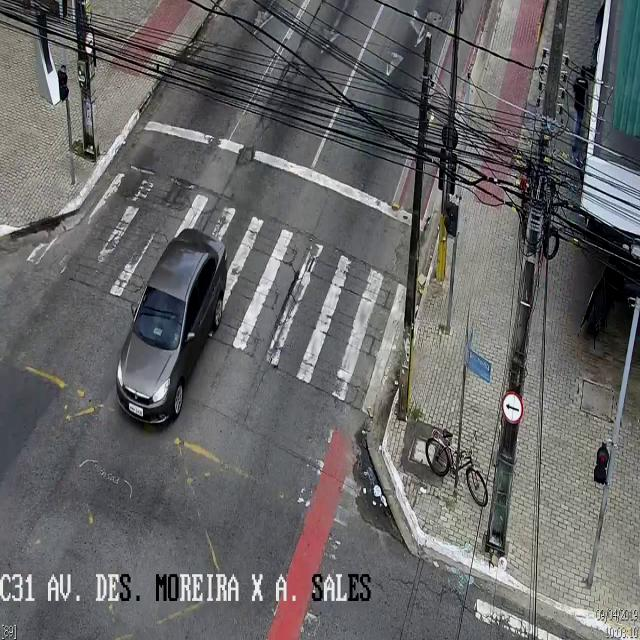Car: (115, 230, 226, 425)
